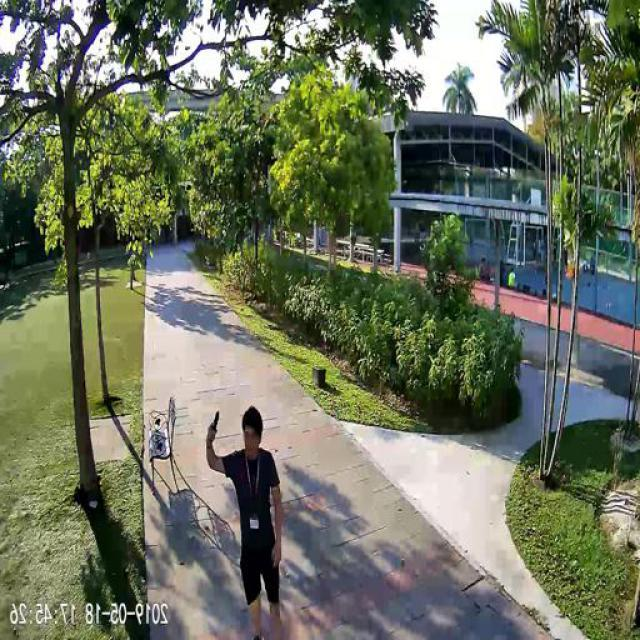Gun: (214, 408, 224, 428)
